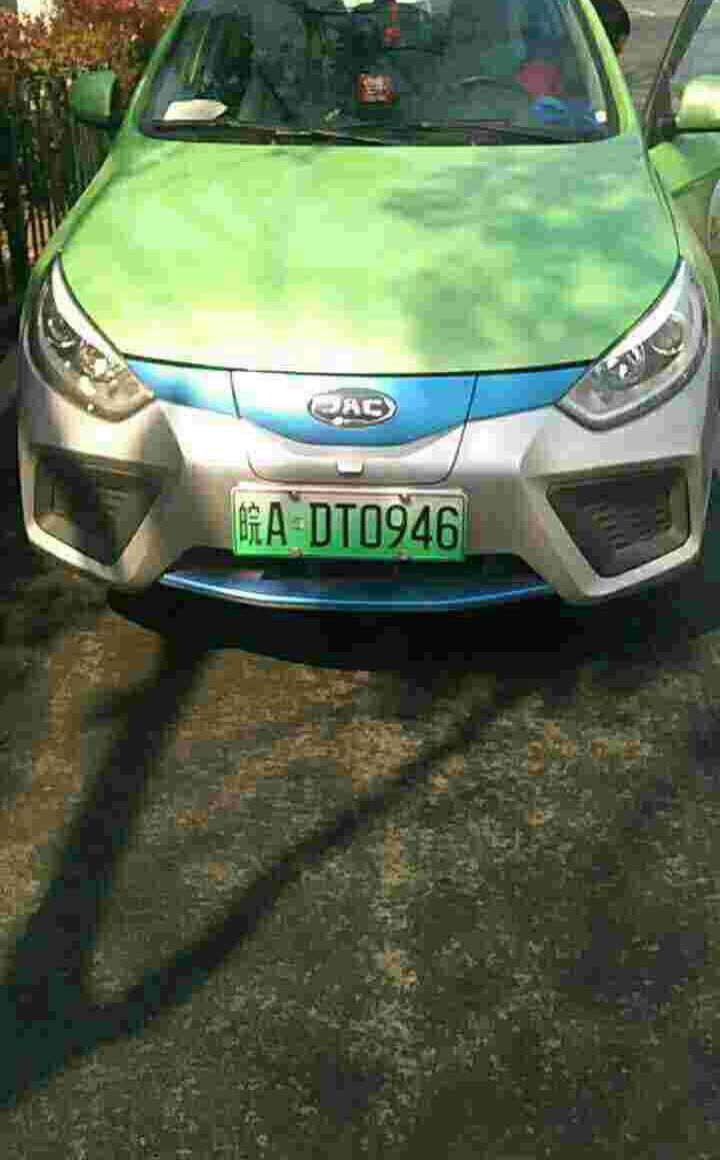car: (225, 485, 471, 565)
